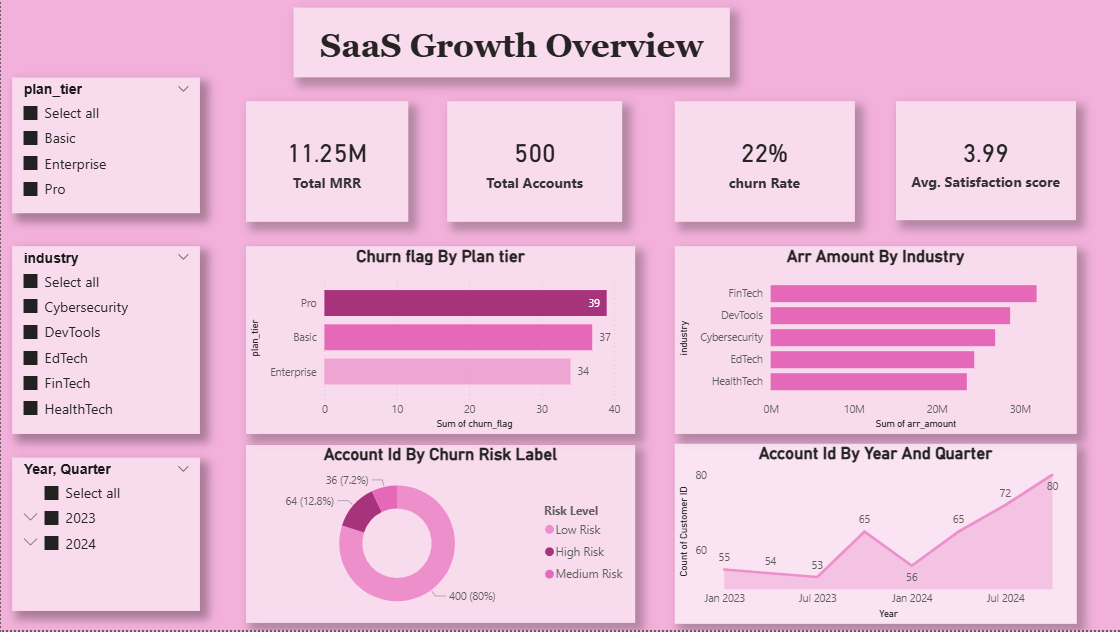

The page's visual inventory and layout, read from the dashboard file:
{"tool":"powerbi","page":{"name":"Overview","canvas":[1280,720],"ordinal":0},"visuals":[{"type":"textbox","box":[335,8.8,498.8,80],"z":0},{"type":"card","fields":{"Values":["accounts.Total MRR"]},"box":[280.4,115.4,185.7,137.5],"z":1000},{"type":"card","fields":{"Values":["accounts.Total Accounts"]},"box":[510.7,115.4,200,137.5],"z":2000},{"type":"card","fields":{"Values":["accounts.churn Rate"]},"box":[769.6,115.4,205.4,137.5],"z":3000},{"type":"card","fields":{"Values":["accounts.Avg. Satisfaction score"]},"box":[1023.2,115.4,205.4,135.7],"z":4000},{"type":"slicer","fields":{"Values":["accounts.plan_tier"]},"box":[12.5,89.3,214.3,155.4],"z":5000},{"type":"slicer","fields":{"Values":["accounts.industry"]},"box":[12.5,282.1,214.3,214.3],"z":6000},{"type":"slicer","fields":{"Values":["accounts.signup_date.Variation.Date Hierarchy.Year","accounts.signup_date.Variation.Date Hierarchy.Quarter"]},"box":[12.5,523.2,214.3,175],"z":7000},{"type":"clusteredBarChart","title":" Churn flag By Plan tier","fields":{"Category":["accounts.plan_tier"],"Y":["Sum(accounts.churn_flag)"]},"box":[280.4,282.1,444.6,214.3],"z":8000},{"type":"clusteredBarChart","title":"Arr Amount By Industry","fields":{"Category":["accounts.industry"],"Y":["Sum(subscriptions.arr_amount)"]},"box":[769.6,282.1,458.9,214.3],"z":9000},{"type":"donutChart","title":"Account Id By Churn Risk Label","fields":{"Y":["CountNonNull(accounts.account_id)"],"Category":["churn_scores.churn_risk_label"]},"box":[280.4,508.9,444.6,203.6],"z":10000},{"type":"lineChart","title":"Account Id By Year And Quarter","fields":{"Y":["CountNonNull(accounts.account_id)"],"Category":["accounts.signup_date.Variation.Date Hierarchy.Year","accounts.signup_date.Variation.Date Hierarchy.Quarter"]},"box":[769.6,507.1,458.9,205.4],"z":11000}]}

Visuals, with their boxes in screenshot pixels (x1, y1, x2, y2), scaled from the page's 1280x720 canvas onto the 1120x632 screenshot:
textbox: Rect(293, 8, 730, 78)
card - accounts.Total MRR: Rect(245, 101, 408, 222)
card - accounts.Total Accounts: Rect(447, 101, 622, 222)
card - accounts.churn Rate: Rect(673, 101, 853, 222)
card - accounts.Avg. Satisfaction score: Rect(895, 101, 1075, 220)
slicer - accounts.plan_tier: Rect(11, 78, 198, 215)
slicer - accounts.industry: Rect(11, 248, 198, 436)
slicer - accounts.signup_date.Variation.Date Hierarchy.Year x accounts.signup_date.Variation.Date Hierarchy.Quarter: Rect(11, 459, 198, 613)
" Churn flag By Plan tier" clusteredBarChart: Rect(245, 248, 634, 436)
"Arr Amount By Industry" clusteredBarChart: Rect(673, 248, 1075, 436)
"Account Id By Churn Risk Label" donutChart: Rect(245, 447, 634, 625)
"Account Id By Year And Quarter" lineChart: Rect(673, 445, 1075, 625)
